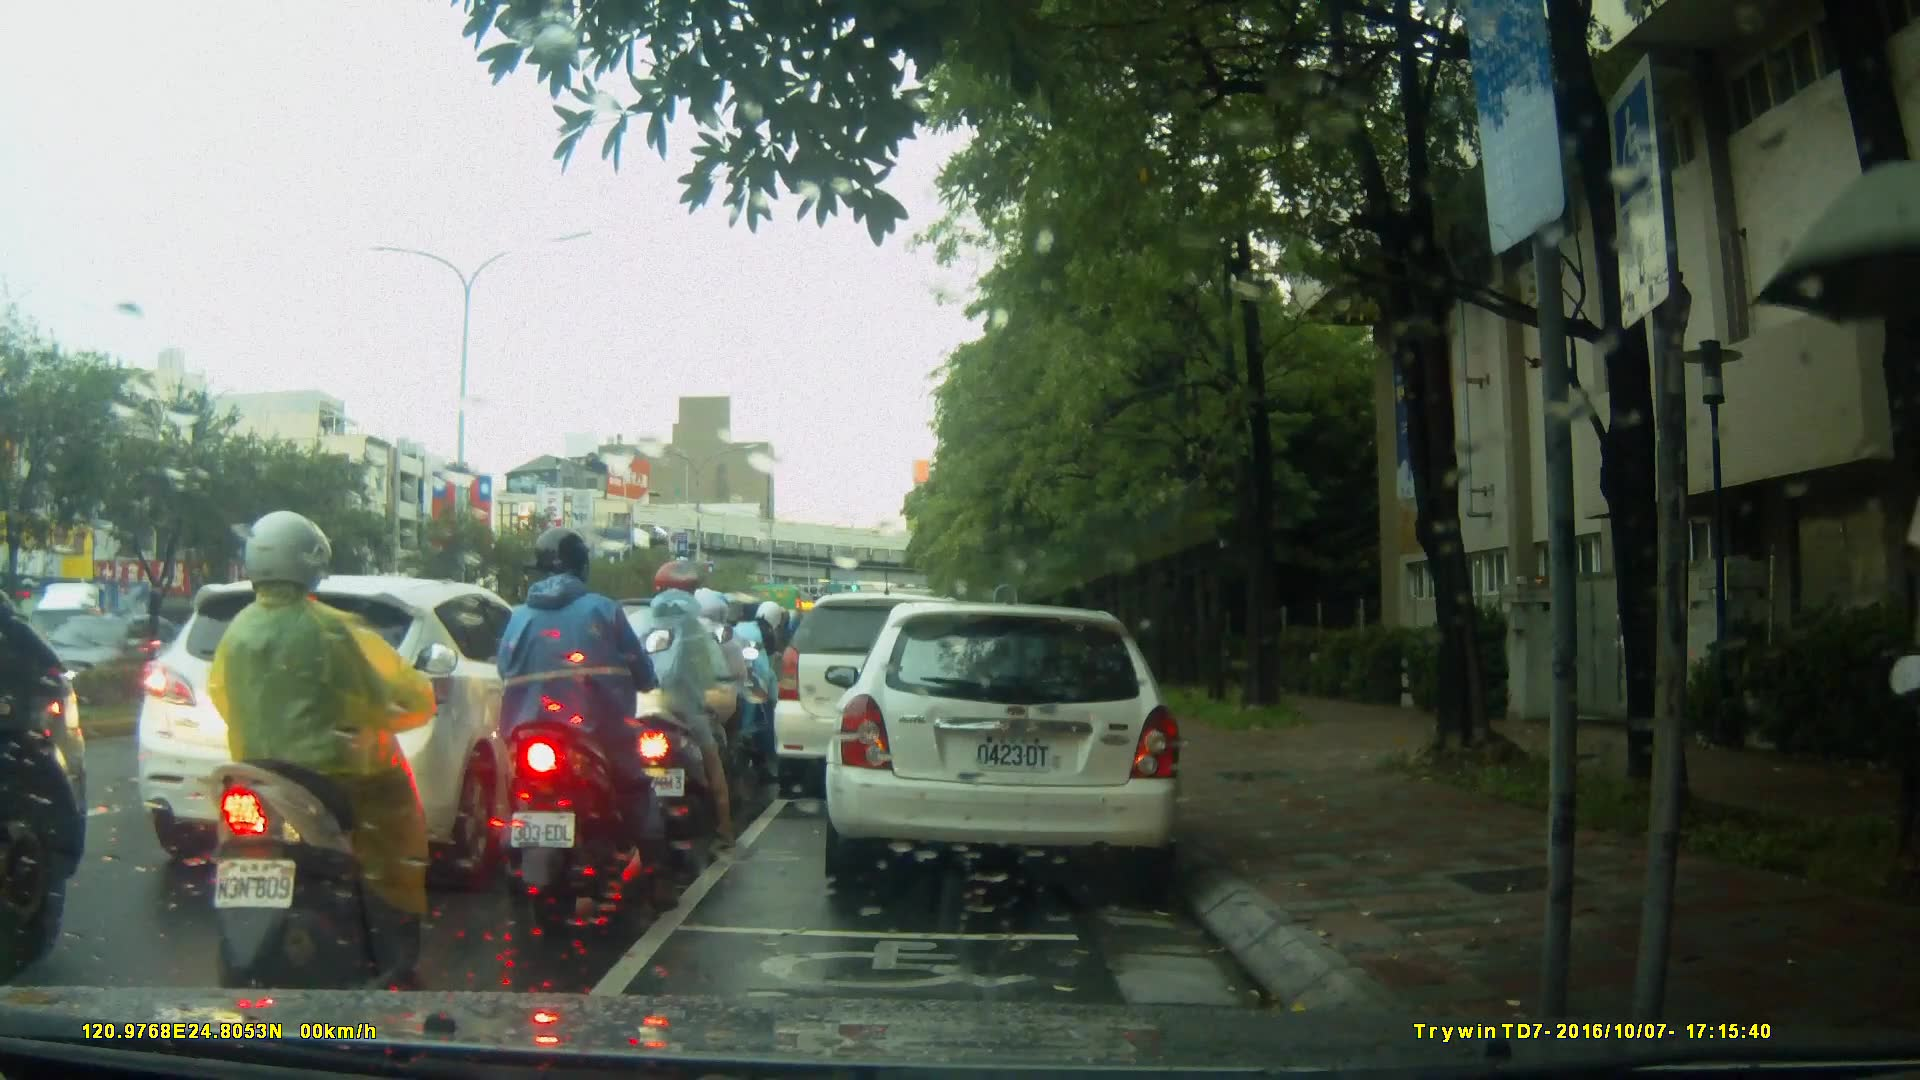rider: (198, 510, 462, 1012), (494, 525, 682, 921), (603, 560, 738, 851), (645, 581, 763, 823), (721, 594, 788, 766)
vehicle: (137, 572, 591, 877), (822, 604, 1188, 883), (774, 595, 995, 802), (12, 610, 225, 715), (20, 576, 199, 697)
